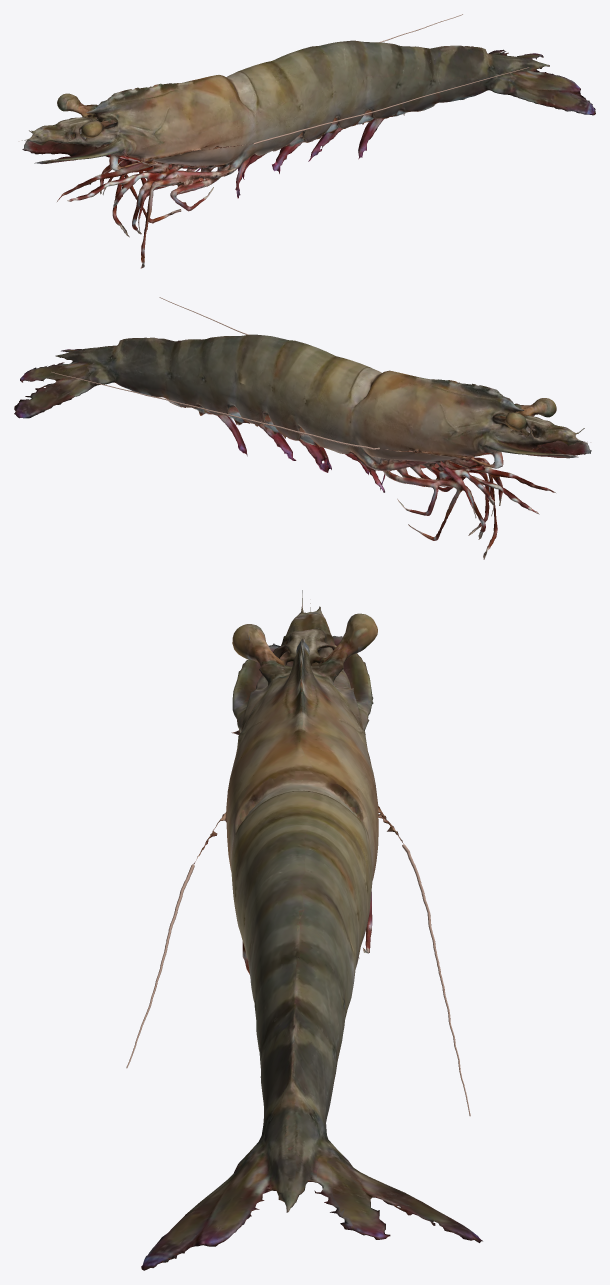
The model's file is prawn.glb.
3 renders of one model, top to bottom at view 1: azimuth 30°, elevation 25°; view 2: azimuth 150°, elevation 25°; view 3: azimuth 270°, elevation 25°, orthographic. The views are drawn at different scales.
Parts seen in each view (by area): view 1: PRAWN; view 2: PRAWN; view 3: PRAWN.
Part boxes in pixels (left/top/right/bottom): PRAWN: left=22, top=14, right=595, bottom=268; PRAWN: left=14, top=297, right=591, bottom=559; PRAWN: left=126, top=590, right=482, bottom=1270.
Bounding box in the file's own units: 0.2477 × 0.0766 × 0.0706.
Materials: 2 (1 with a texture image).
